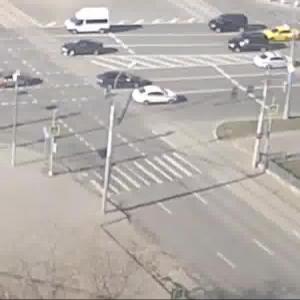car: (64, 6, 117, 35), (54, 38, 109, 62), (99, 69, 144, 94), (1, 68, 40, 94), (132, 87, 180, 106), (229, 31, 266, 55), (258, 50, 297, 69), (211, 13, 249, 32), (266, 25, 300, 44)
